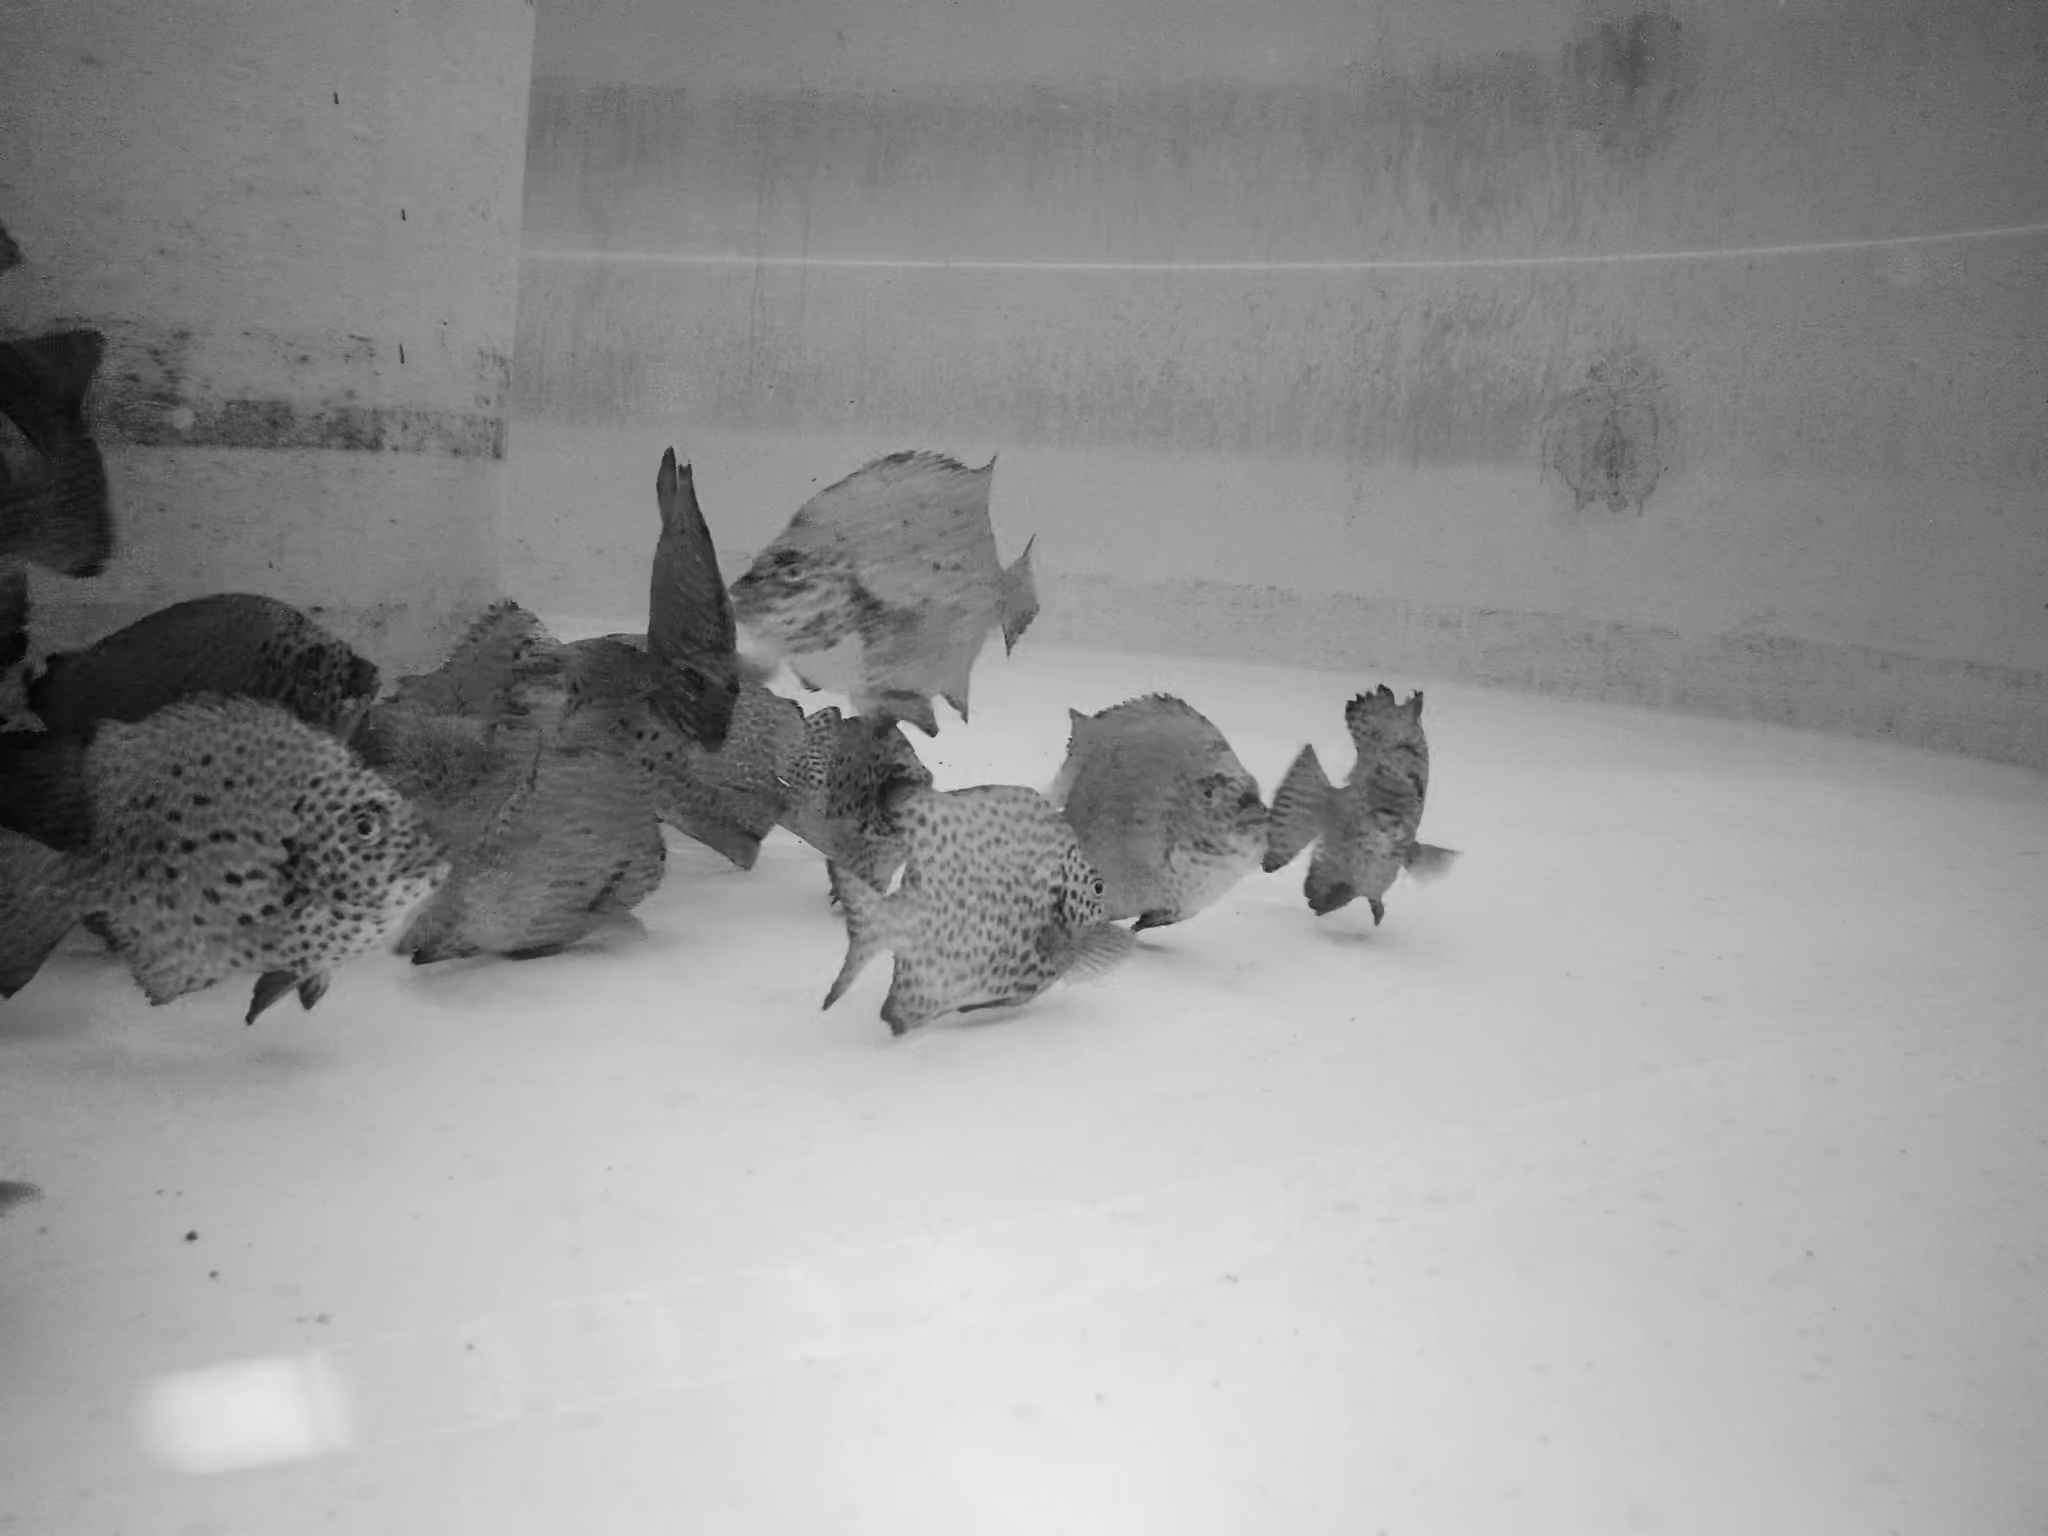fish: (6, 699, 443, 1016), (719, 442, 1042, 729), (814, 778, 1101, 1033), (552, 624, 845, 870), (29, 602, 389, 765), (429, 736, 658, 970), (1045, 694, 1276, 923), (1266, 678, 1456, 925), (385, 586, 577, 803), (2, 310, 129, 591), (776, 700, 934, 887), (643, 445, 737, 749)
